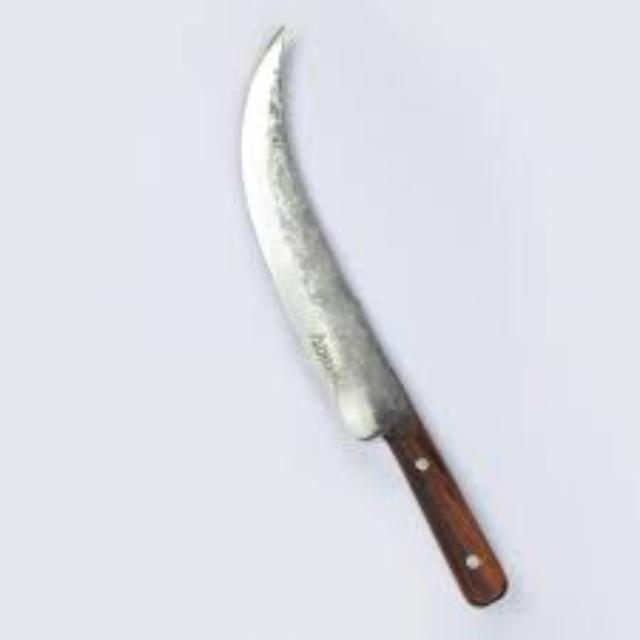Knife: (236, 22, 509, 606)
